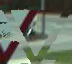Give way: (0, 2, 53, 63)
